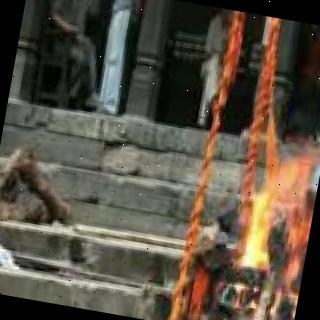fire: (219, 130, 320, 320)
